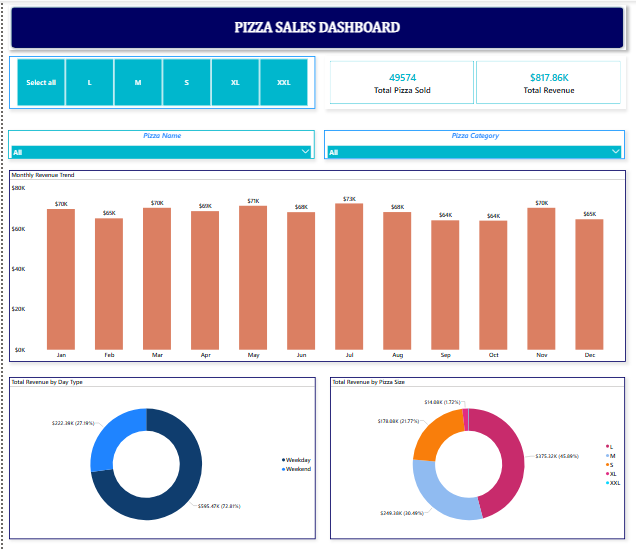

The dashboard page shown, as its layout file describes it:
{"tool":"powerbi","page":{"name":"Revenue Trend Analysis","canvas":[2300,2000],"ordinal":2},"visuals":[{"type":"cardVisual","fields":{"Data":["_Measures.Total Pizza Sold","_Measures.Total Revenue"]},"box":[1170,200,1092.5,192.5],"z":0},{"type":"donutChart","fields":{"Y":["_Measures.Total Revenue"],"Series":["Dim_Date.Day Type"]},"box":[20,1367.5,1115,590],"z":1000},{"type":"donutChart","title":"Total Revenue by Pizza Size","fields":{"Y":["_Measures.Total Revenue"],"Series":["Dim_pizzas.Size"]},"box":[1190,1367.5,1072.5,590],"z":3000},{"type":"slicer","fields":{"Values":["Dim_pizzas.Size"]},"box":[20,200,1114,192],"z":5000},{"type":"slicer","title":"Pizza Name","fields":{"Values":["Dimpizza_Details.Pizza_Name"]},"box":[18,470,1115,105],"z":6000},{"type":"clusteredColumnChart","title":"Monthly Revenue Trend","fields":{"Category":["Dim_Date.Month Name"],"Y":["_Measures.Total Revenue"]},"box":[20,615,2242.5,697.5],"z":7000},{"type":"slicer","title":"Pizza Category","fields":{"Values":["Dimpizza_Details.Category"]},"box":[1168,470,1094,106],"z":8000},{"type":"shape","box":[20,15,2242.5,165],"z":9000}]}

Visuals, with their boxes in screenshot pixels (x1, y1, x2, y2), scaled from the page's 2300x2000 canvas onto the 636x550 screenshot:
cardVisual - _Measures.Total Pizza Sold x _Measures.Total Revenue: crop(324, 55, 626, 108)
donutChart - _Measures.Total Revenue x Dim_Date.Day Type: crop(6, 376, 314, 538)
"Total Revenue by Pizza Size" donutChart: crop(329, 376, 626, 538)
slicer - Dim_pizzas.Size: crop(6, 55, 314, 108)
"Pizza Name" slicer: crop(5, 129, 313, 158)
"Monthly Revenue Trend" clusteredColumnChart: crop(6, 169, 626, 361)
"Pizza Category" slicer: crop(323, 129, 625, 158)
shape: crop(6, 4, 626, 50)
